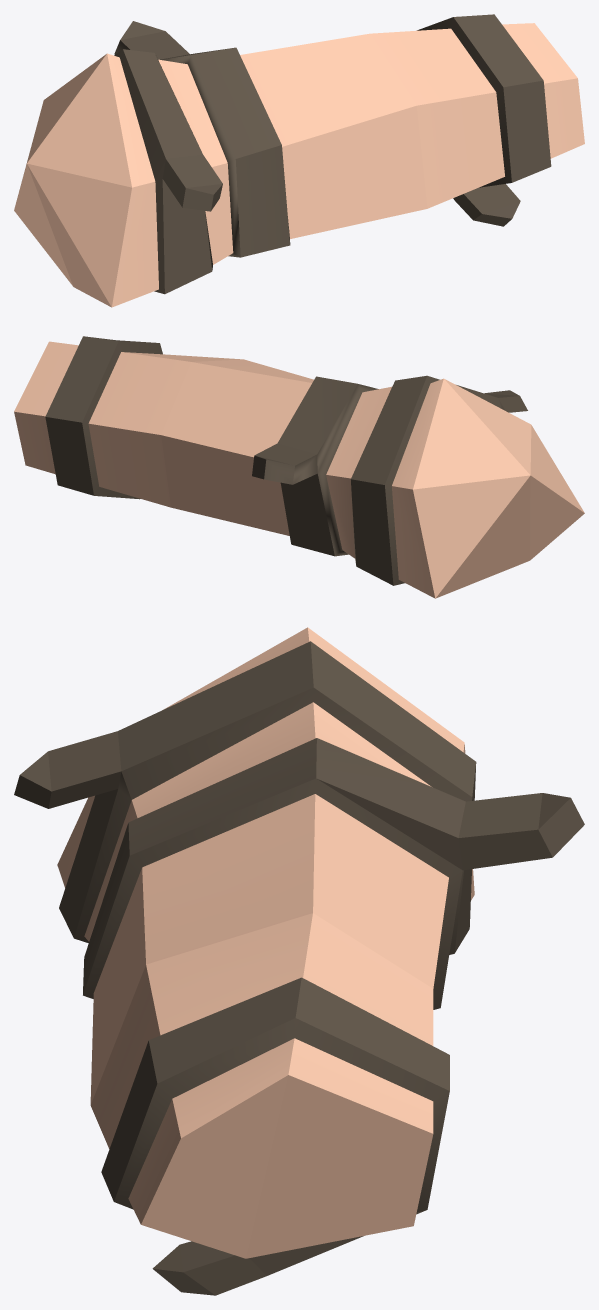
File: Chr_ArmUpperLeft_Male_03_Static.fbx
3 renders of one model, top to bottom at view 1: azimuth 30°, elevation 25°; view 2: azimuth 150°, elevation 25°; view 3: azimuth 270°, elevation 25°, orthographic. The views are drawn at different scales.
Parts seen in each view (by area): view 1: Chr_ArmUpperLeft_Male_03_Static; view 2: Chr_ArmUpperLeft_Male_03_Static; view 3: Chr_ArmUpperLeft_Male_03_Static.
Part boxes in pixels (<box>): Chr_ArmUpperLeft_Male_03_Static: <box>14,14,584,307</box>; Chr_ArmUpperLeft_Male_03_Static: <box>14,336,584,598</box>; Chr_ArmUpperLeft_Male_03_Static: <box>14,627,584,1295</box>.
Size of the model in its own units: 0.3345 by 0.1433 by 0.1954.
